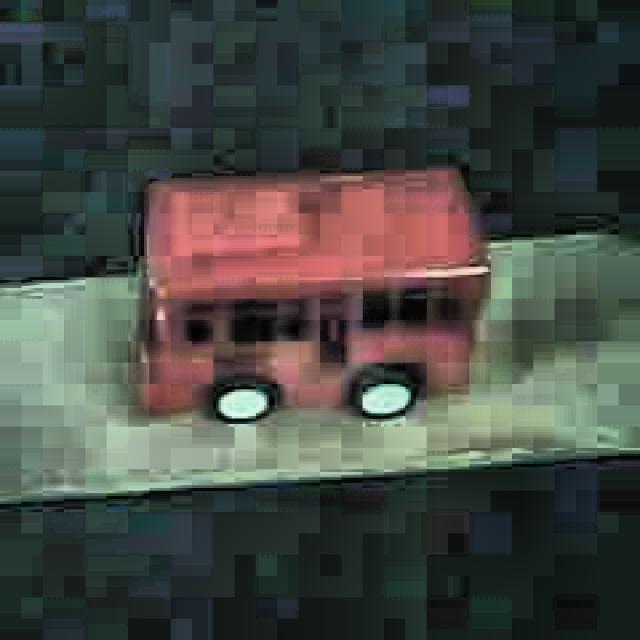bus: (135, 164, 494, 426)
